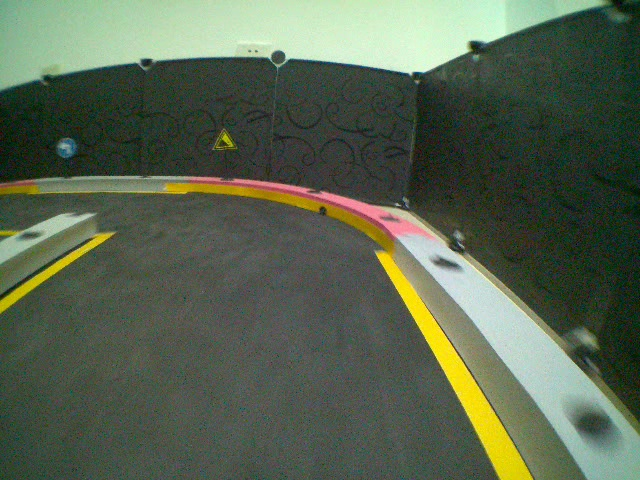fast: (210, 127, 238, 152)
turn: (55, 136, 76, 159)
